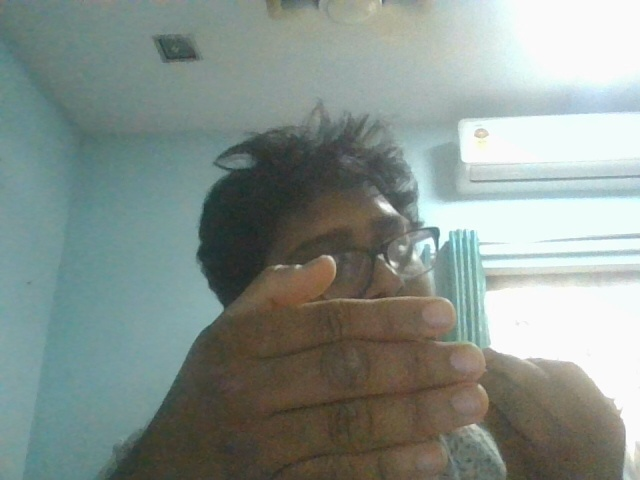LEFT: (127, 253, 493, 480)
